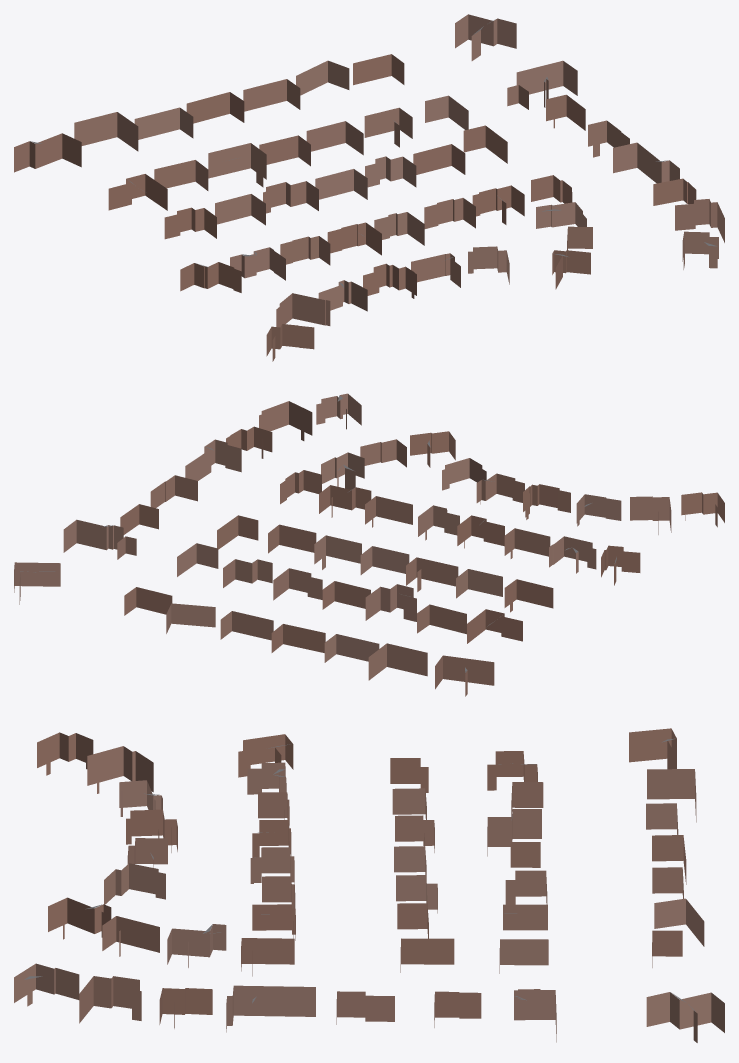
The model's file is c_1647_17837_buildings_residential.glb.
3 renders of one model, top to bottom at view 1: azimuth 30°, elevation 25°; view 2: azimuth 150°, elevation 25°; view 3: azimuth 270°, elevation 25°, orthographic. The views are drawn at different scales.
Parts seen in each view (by area): view 1: geometry_0; view 2: geometry_0; view 3: geometry_0.
Boxes of the visible parts, x1,y1,x2,y2 form: geometry_0: (14,14,724,361); geometry_0: (14,393,724,696); geometry_0: (14,728,724,1042).
Size of the model in its own units: 229 by 11.08 by 236.
